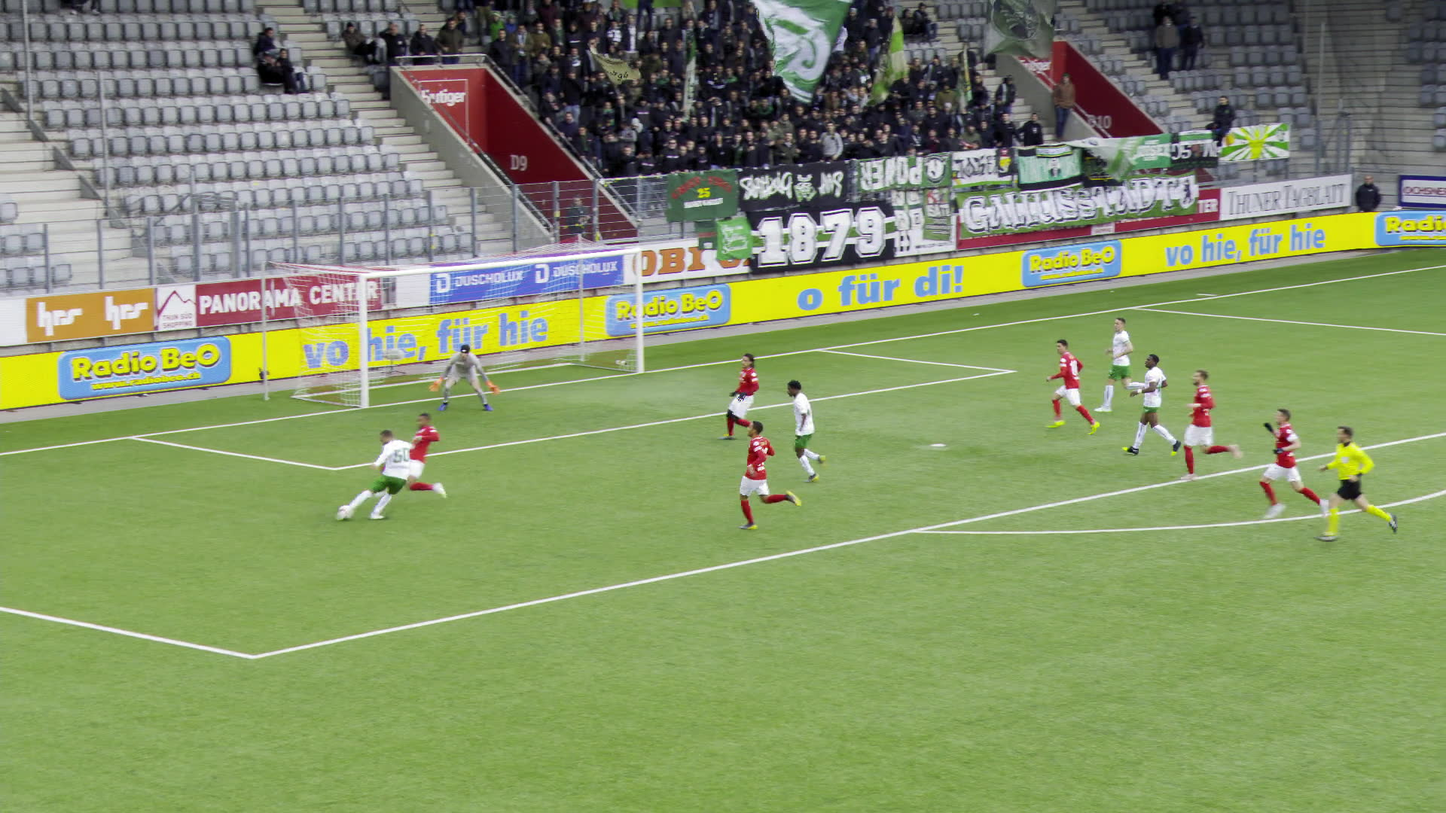ball: (334, 503, 356, 522)
player: (1165, 364, 1251, 483), (724, 418, 809, 535), (1255, 403, 1331, 527), (352, 421, 424, 528), (385, 408, 453, 513), (1118, 349, 1182, 458), (1087, 316, 1153, 417), (779, 379, 838, 489), (712, 349, 774, 446), (1039, 335, 1097, 437), (422, 343, 496, 416)
referee: (1316, 420, 1396, 545)
